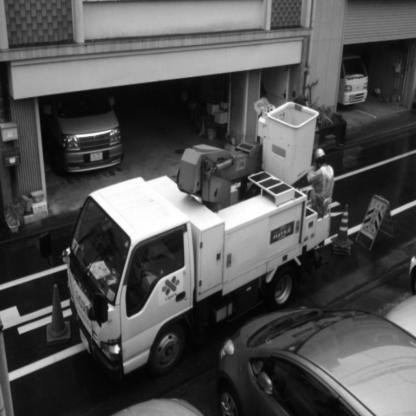car: (51, 126, 376, 370), (219, 305, 416, 416)
